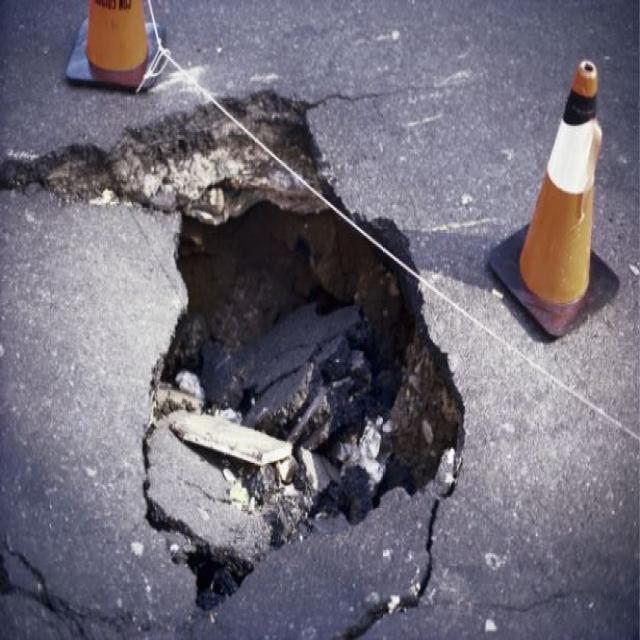pothole: (39, 82, 474, 614)
